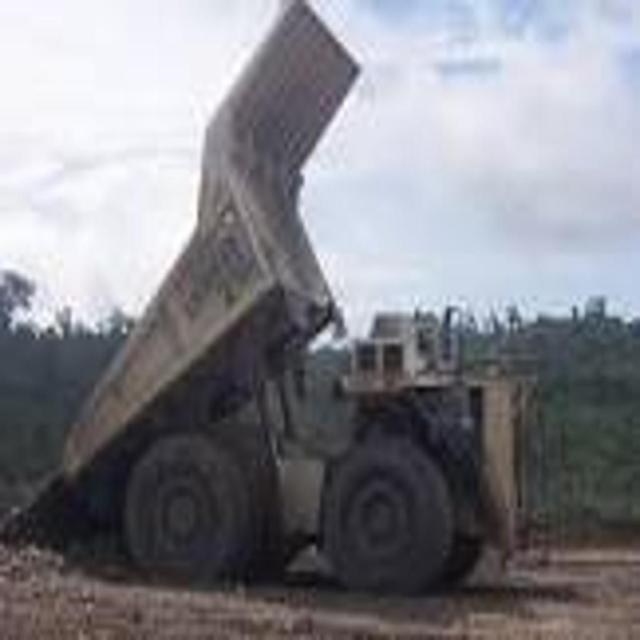dump_truck: (23, 1, 541, 606)
